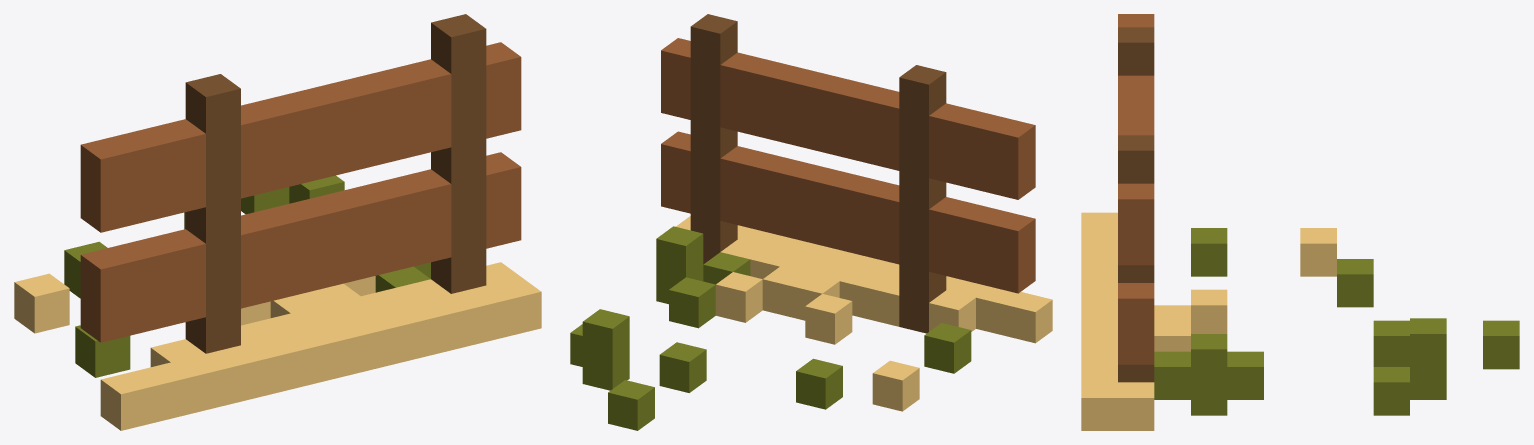
3 renders of one model, left to right at view 1: azimuth 30°, elevation 25°; view 2: azimuth 150°, elevation 25°; view 3: azimuth 270°, elevation 25°, orthographic. The views are drawn at different scales.
Visible parts, largest first — view 1: b_10_01; view 2: b_10_01; view 3: b_10_01.
Boxes of the visible parts, x1,y1,x2,y2 form: b_10_01: [14, 14, 541, 430]; b_10_01: [570, 14, 1052, 430]; b_10_01: [1081, 14, 1519, 430].
Bounding box in the file's own units: 12 × 8 × 12.
Materials: 1 (1 with a texture image).
